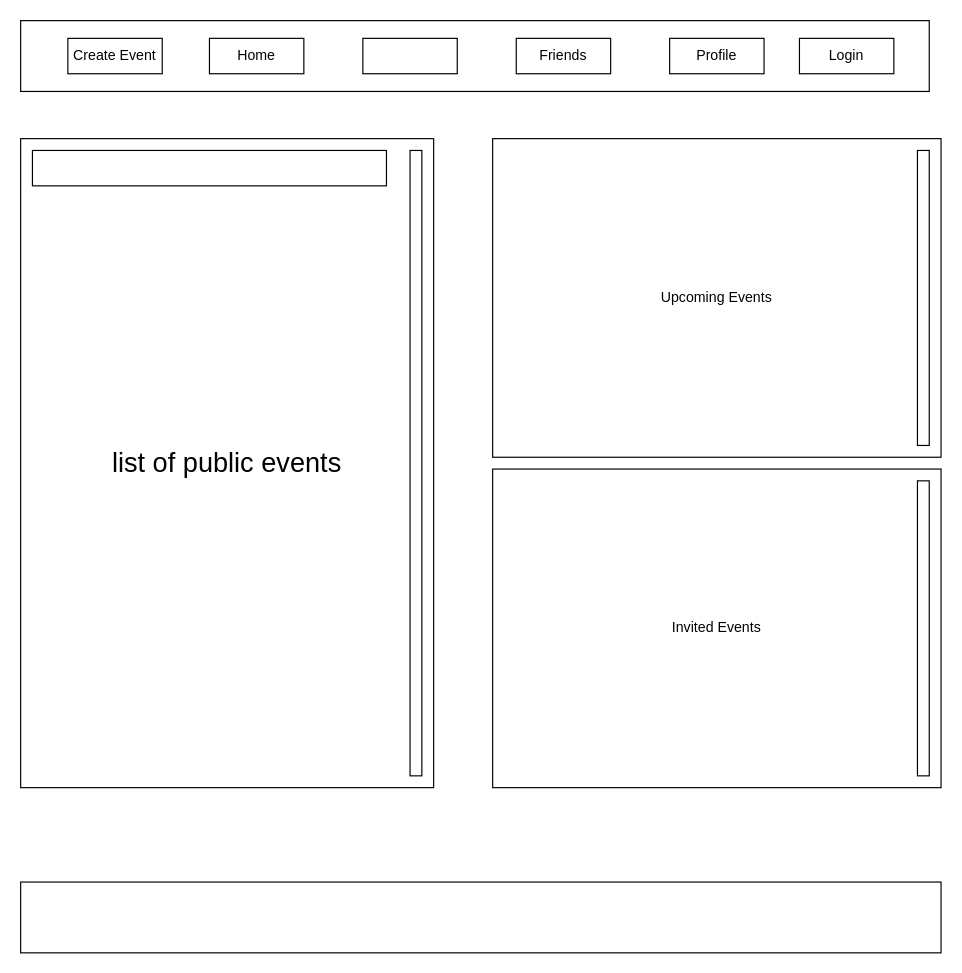
Some shapes in this 962 by 973 pixel diagram are drawn without their labels. Each missing label, with the centre of its shape:
Footer: pixel 480 917
View all events: pixel 208 167
